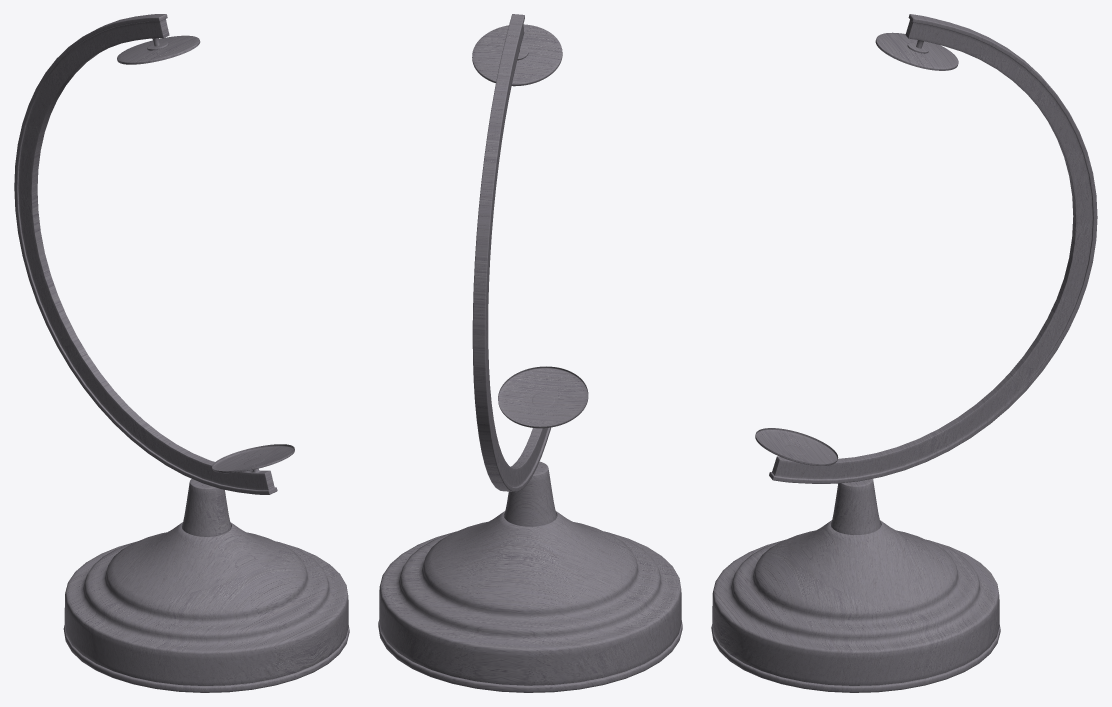
File: estruct-globo.obj
3 renders of one model, left to right at view 1: azimuth 30°, elevation 25°; view 2: azimuth 150°, elevation 25°; view 3: azimuth 270°, elevation 25°, orthographic. The views are drawn at different scales.
Visible parts, largest first — view 1: globe:Globe02; view 2: globe:Globe02; view 3: globe:Globe02.
Boxes of the visible parts, <box> form: globe:Globe02: <box>14,14,349,692</box>; globe:Globe02: <box>378,14,682,692</box>; globe:Globe02: <box>711,14,1097,692</box>.
Size of the model in its own units: 0.6435 by 1.49 by 0.8592.
1 material, 1 textured.
